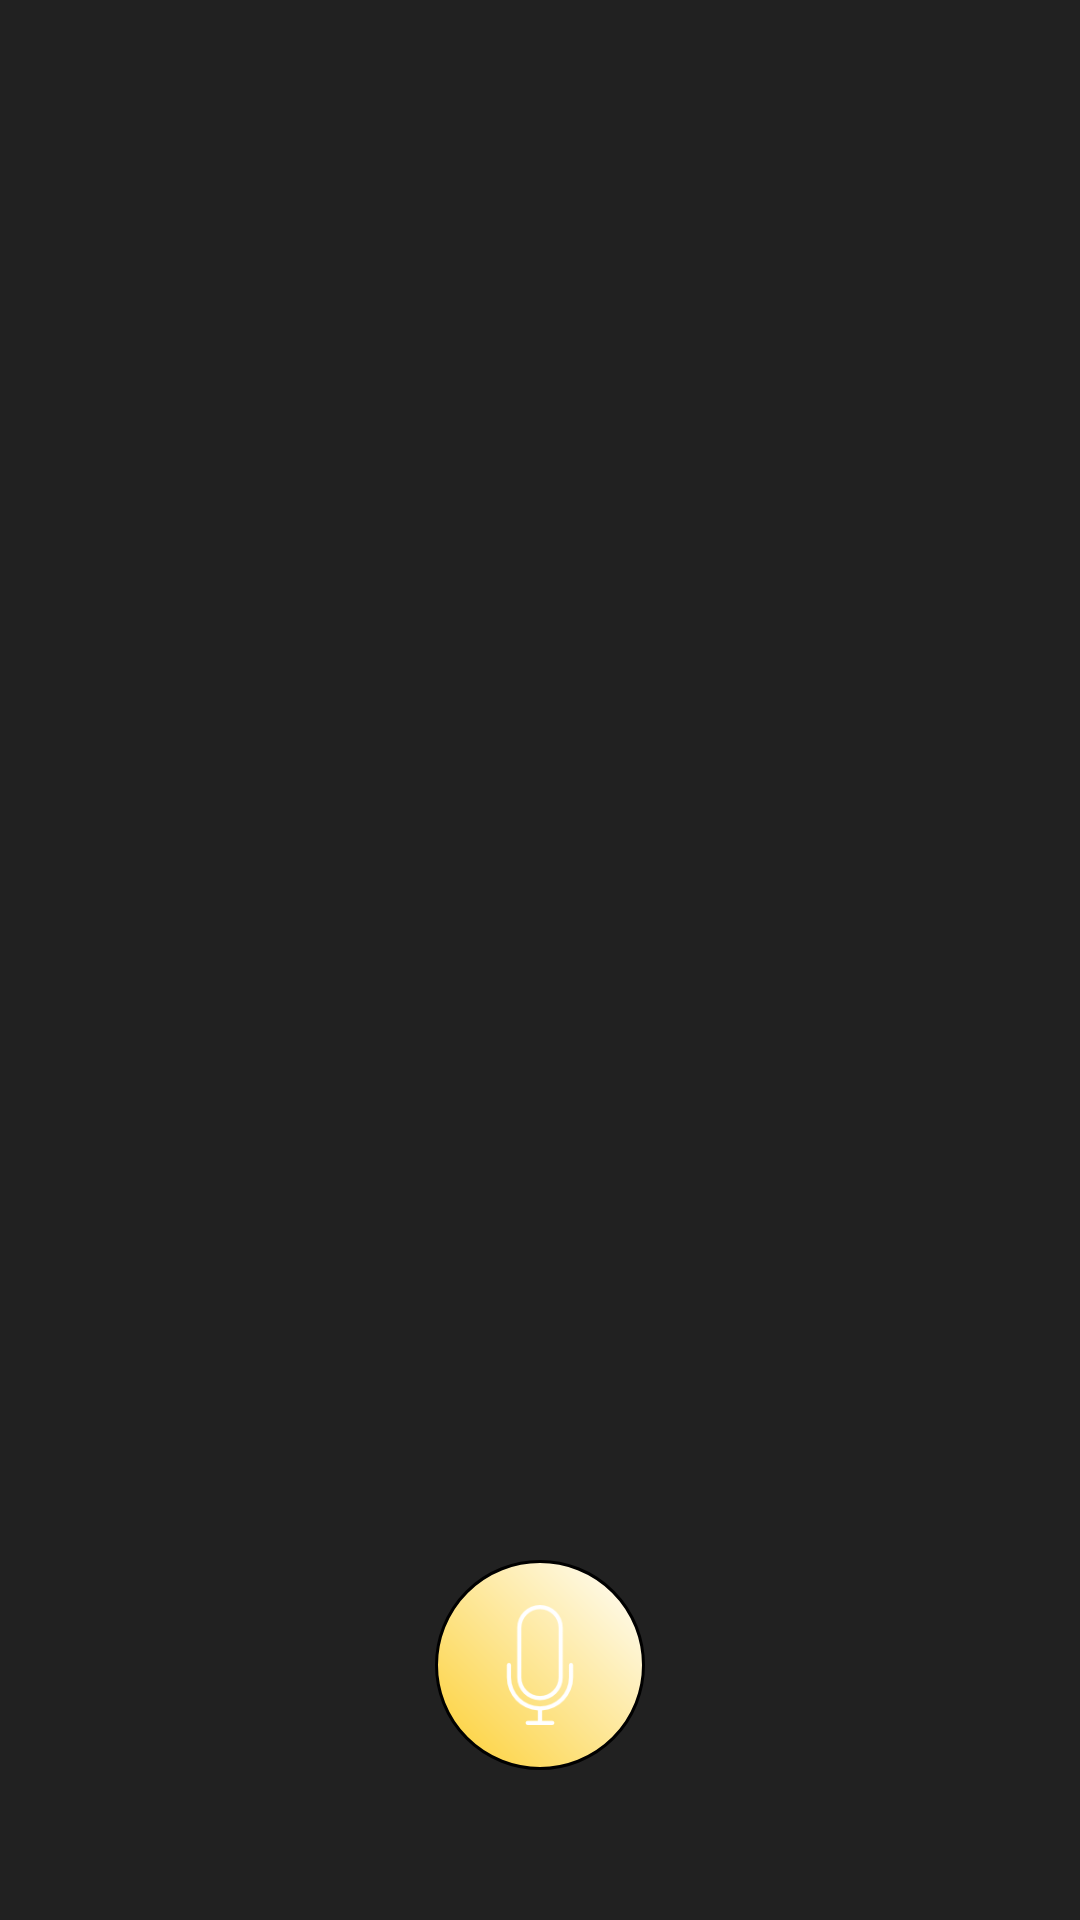

Where to tap for icons on this 1080px x 1920px app screen, as (x=x, y=y):
microphone: (x=540, y=1665)
